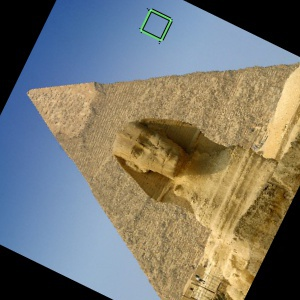square: (138, 7, 175, 45)
